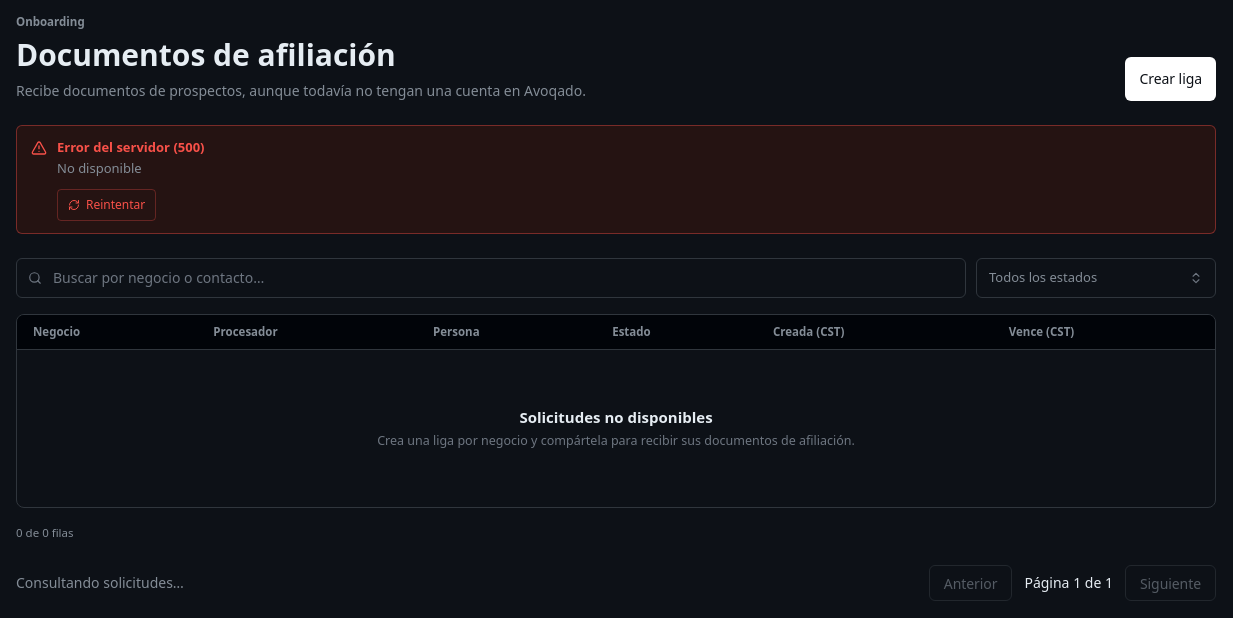
Test: distingue errores del servidor y reintenta la lista
The image size is (1233, 618).
Expected: the message shows "Error del servidor", [57, 138, 204, 156]
Click the button "Reintentar": [107, 205] box [57, 189, 156, 221]
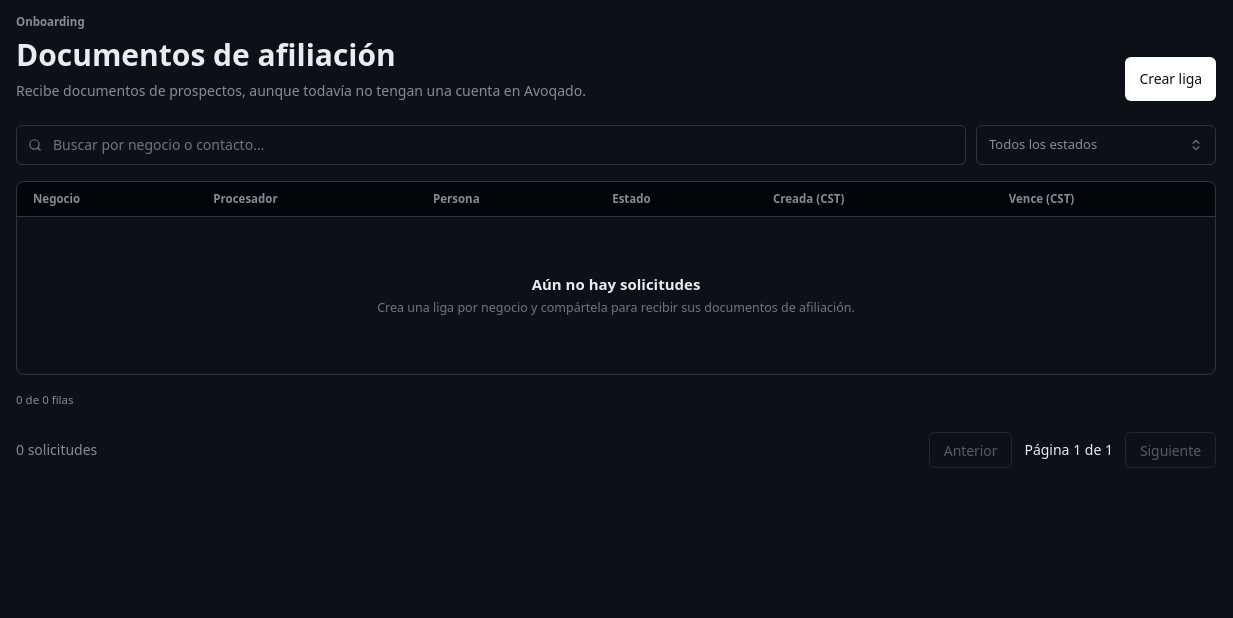
Expected: the text "Aún no hay solicitudes" is shown, [532, 274, 700, 294]
